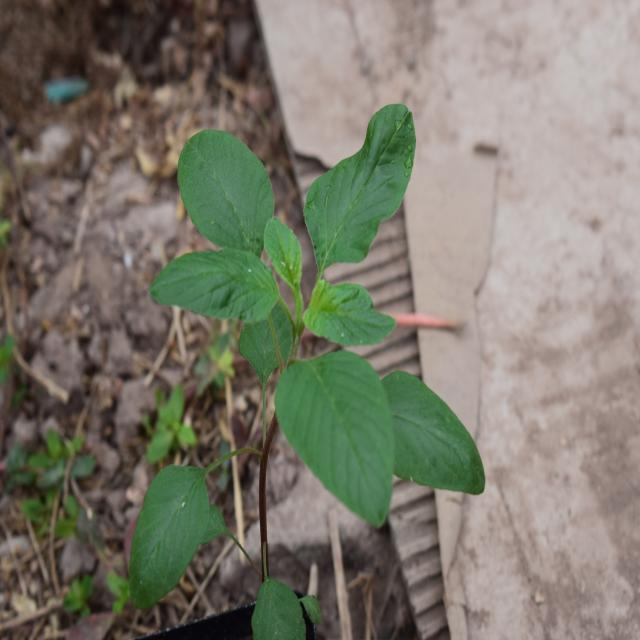pigweed: (166, 105, 474, 532)
